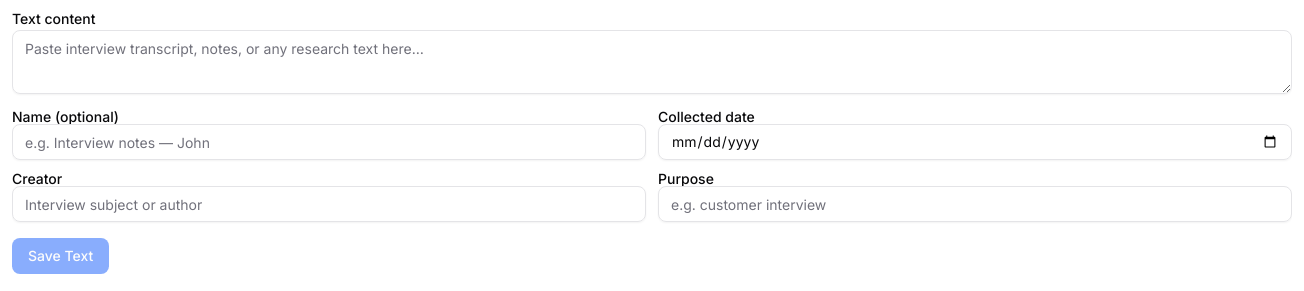
Test: PasteDataSourceForm › enables submit button when text is entered
The width and height of the screenshot is (1304, 291).
Replace the text in the text box labelled "Text content" with "Interview notes from customer call.": (652, 62) [12,30,1292,94]
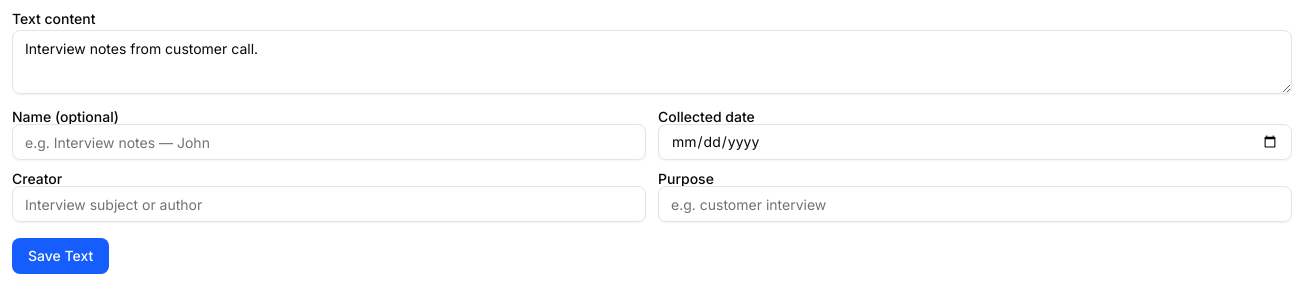
Check: the button "Save Text" is enabled, box [12,238,109,274]
